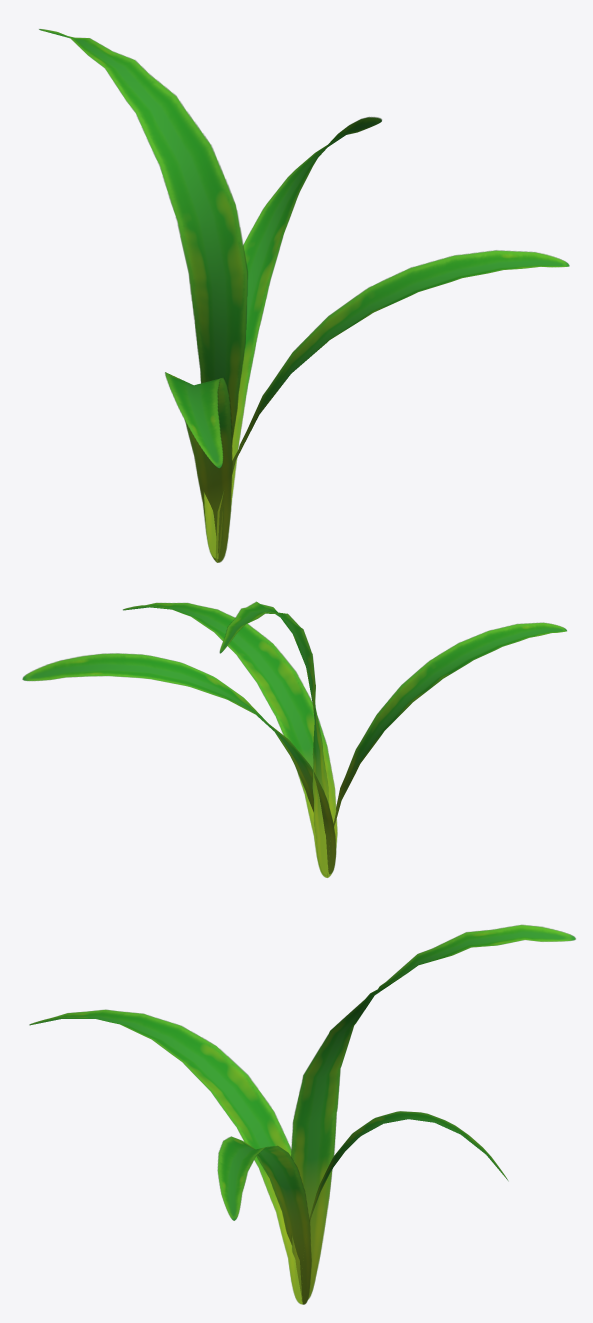
The model's file is grass_3.glb.
3 renders of one model, top to bottom at view 1: azimuth 30°, elevation 25°; view 2: azimuth 150°, elevation 25°; view 3: azimuth 270°, elevation 25°, orthographic. The views are drawn at different scales.
Visible parts, largest first — view 1: Grass_1, Grass_8.001, Grass_6, Grass_8; view 2: Grass_8.001, Grass_6, Grass_8, Grass_1; view 3: Grass_1, Grass_8, Grass_8.001, Grass_6.
Boxes of the visible parts, x1,y1,x2,y2 form: Grass_1: (39,29,247,558); Grass_8.001: (216,250,569,562); Grass_6: (203,117,381,558); Grass_8: (165,372,232,562); Grass_8.001: (123,602,337,877); Grass_6: (22,653,336,874); Grass_8: (327,622,566,876); Grass_1: (219,601,328,875); Grass_1: (291,924,575,1299); Grass_8: (29,1009,302,1304); Grass_8.001: (217,1136,311,1304); Grass_6: (301,1111,508,1300).
Bounding box in the file's own units: 0.0296 × 0.0252 × 0.0338.
Materials: 2 (2 with a texture image).
